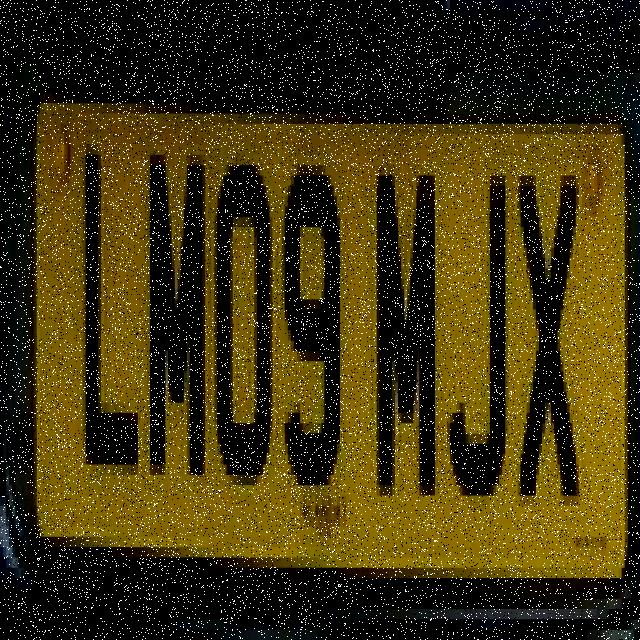licenseplate: (24, 43, 632, 606)
